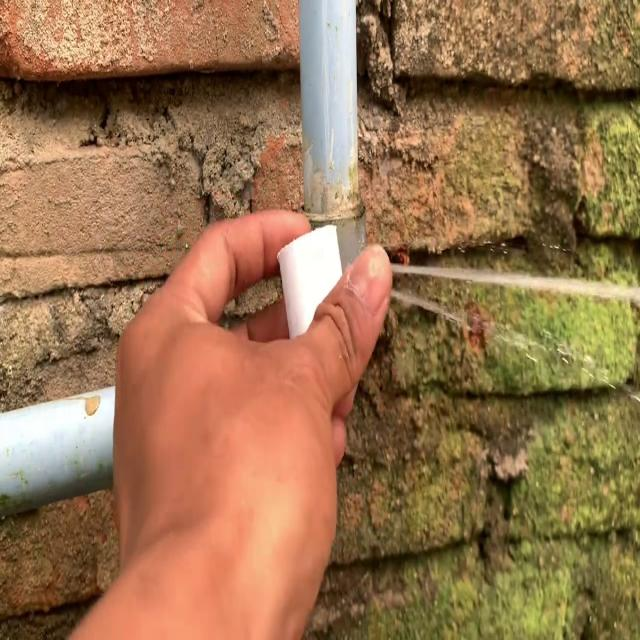leak: (389, 256, 640, 412)
